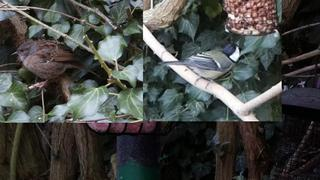dunnock: (11, 40, 103, 92)
great tit: (158, 40, 242, 90)
